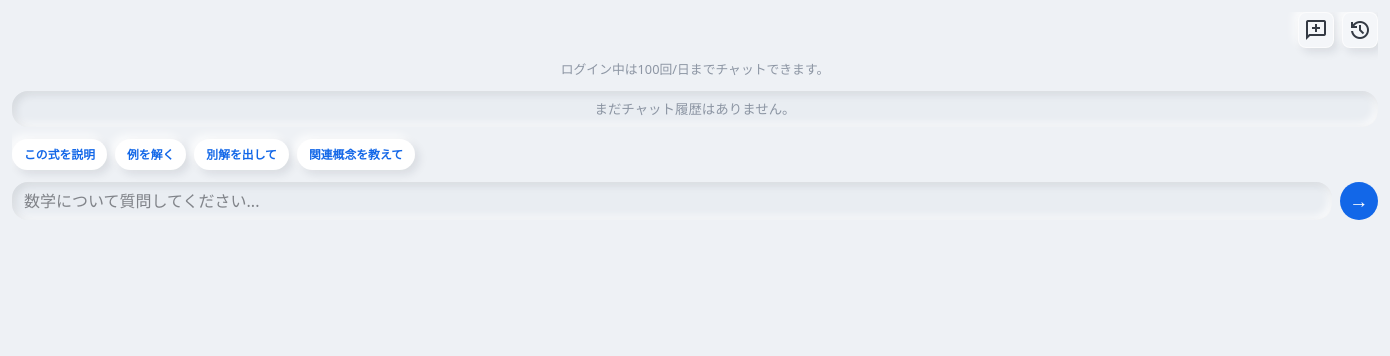
AiChatPanel › ログイン済みは固定応答を返す
In the field with test id "ai-prompt": (672,201) [12,182,1332,220], type "積分を説明して"
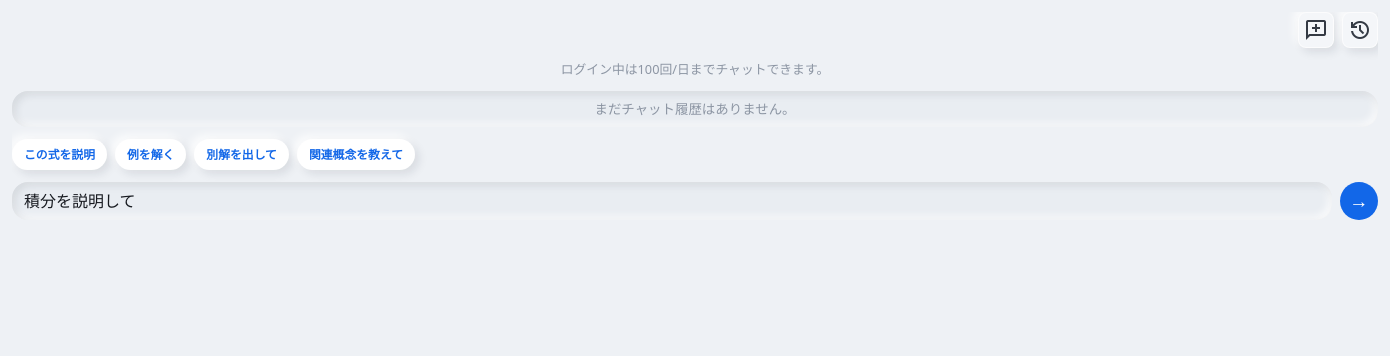
Submit the form, box [12,182,1378,220]
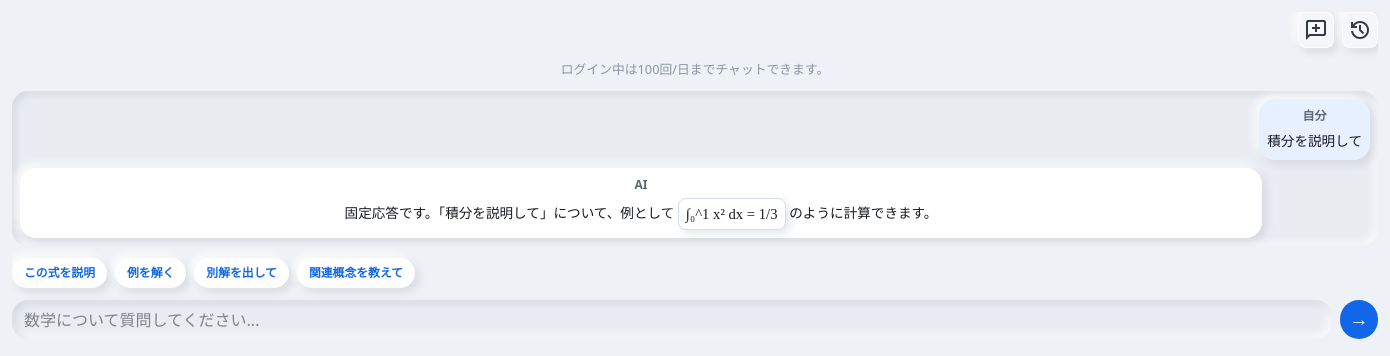
Expected: the text "100回/日" is shown, [561,60,829,78]
Now the text "固定応答です" is shown, box [345,204,678,223]
Now the text "∫" is shown, box [678,198,786,230]
